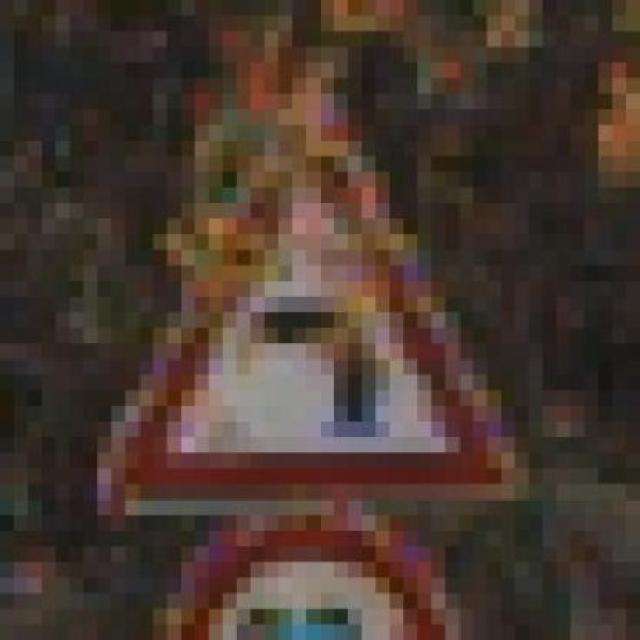Dangerous Left Curve Ahead: (83, 78, 543, 499)
